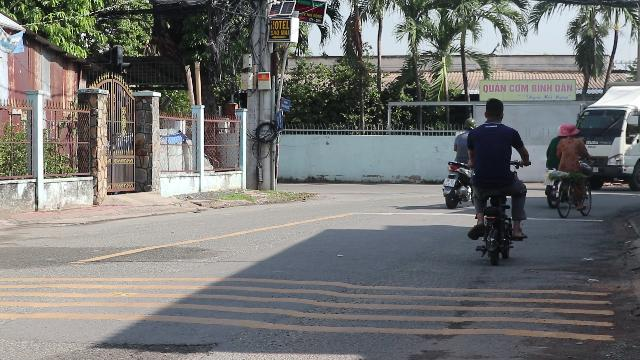motorcyclist: (464, 96, 530, 264)
nohelmet: (481, 98, 505, 122)
